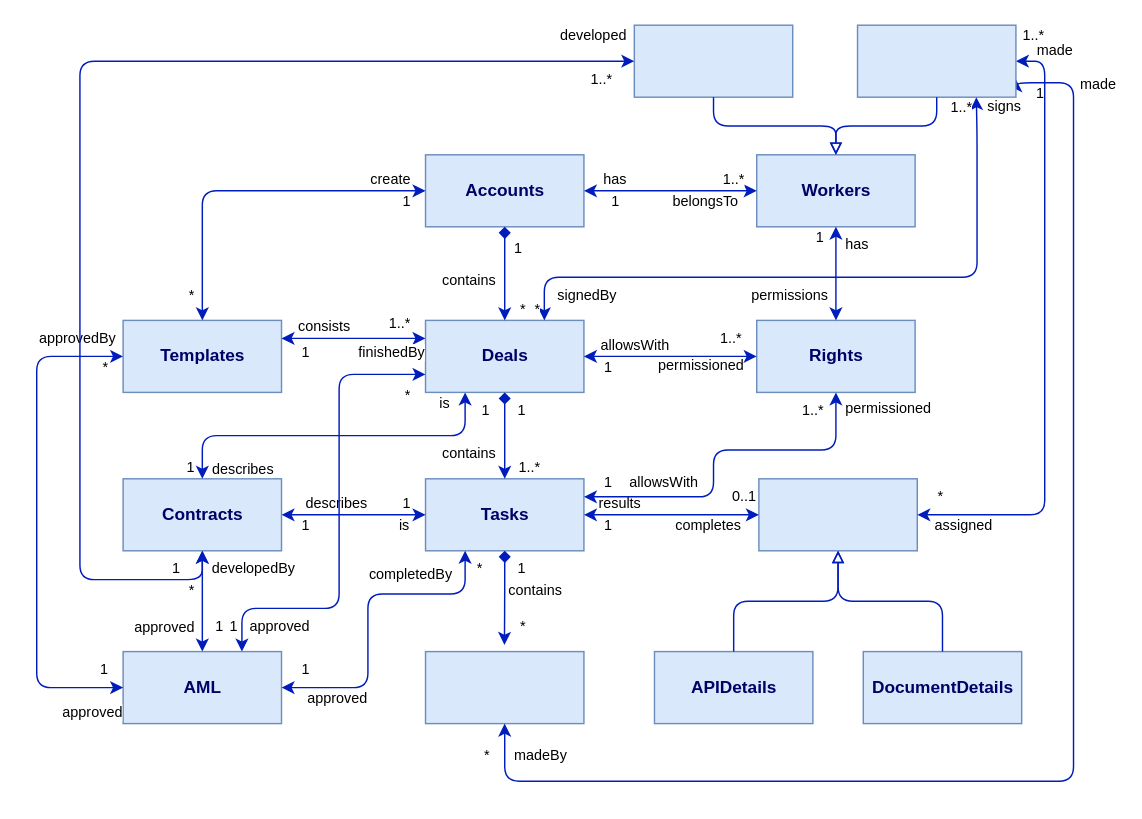
This 1142x819 diagram has some shape labels left out. Here are the shapes that lost their labels. From the top down, the centre of each, then its label:
(713,60): Developers
(936,60): Functionals
(837,514): ProofOfWork
(504,687): Comments
